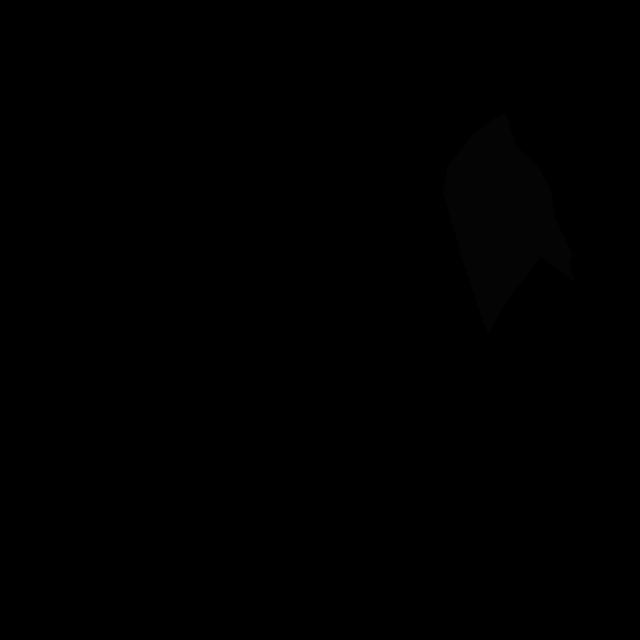soft_plastic: (443, 112, 575, 334)
